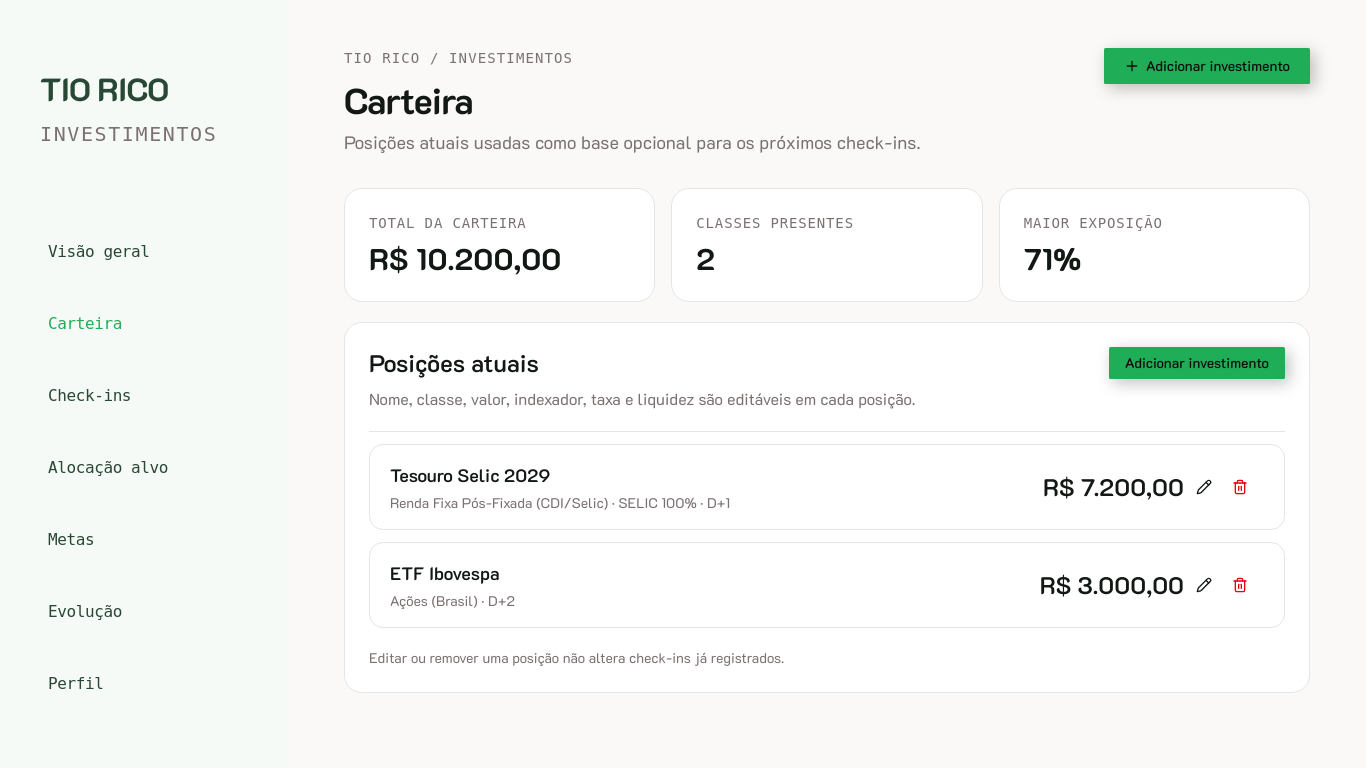
Test: Wallet (carteira) › remove um investimento com DELETE e tira da lista
This screenshot has width=1366, height=768.
Expected: the list named "Investimentos atuais" is shown, [369,444,1285,628]
Click the button named "Remover ETF Ibovespa". click: (1248, 585)
box: [1232,569,1264,601]
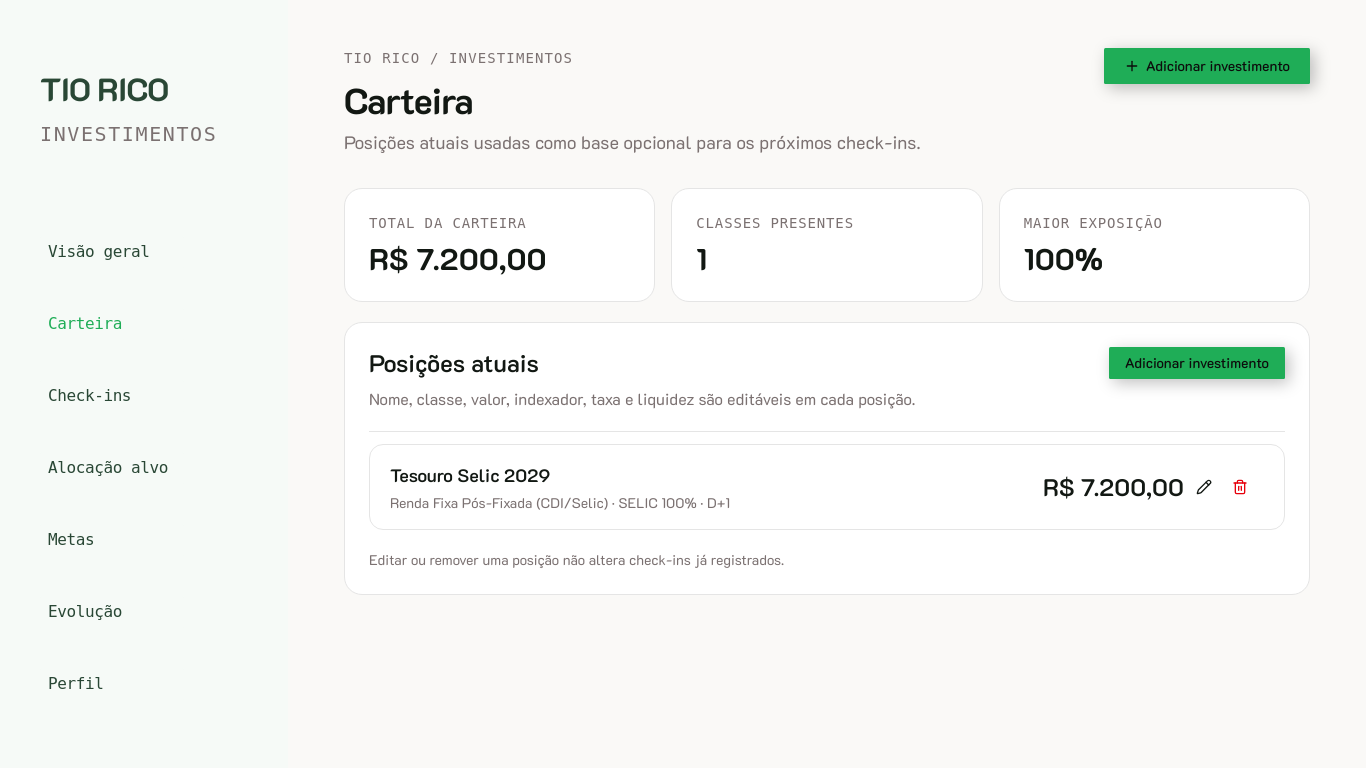
Result: the heading "ETF Ibovespa" is gone
